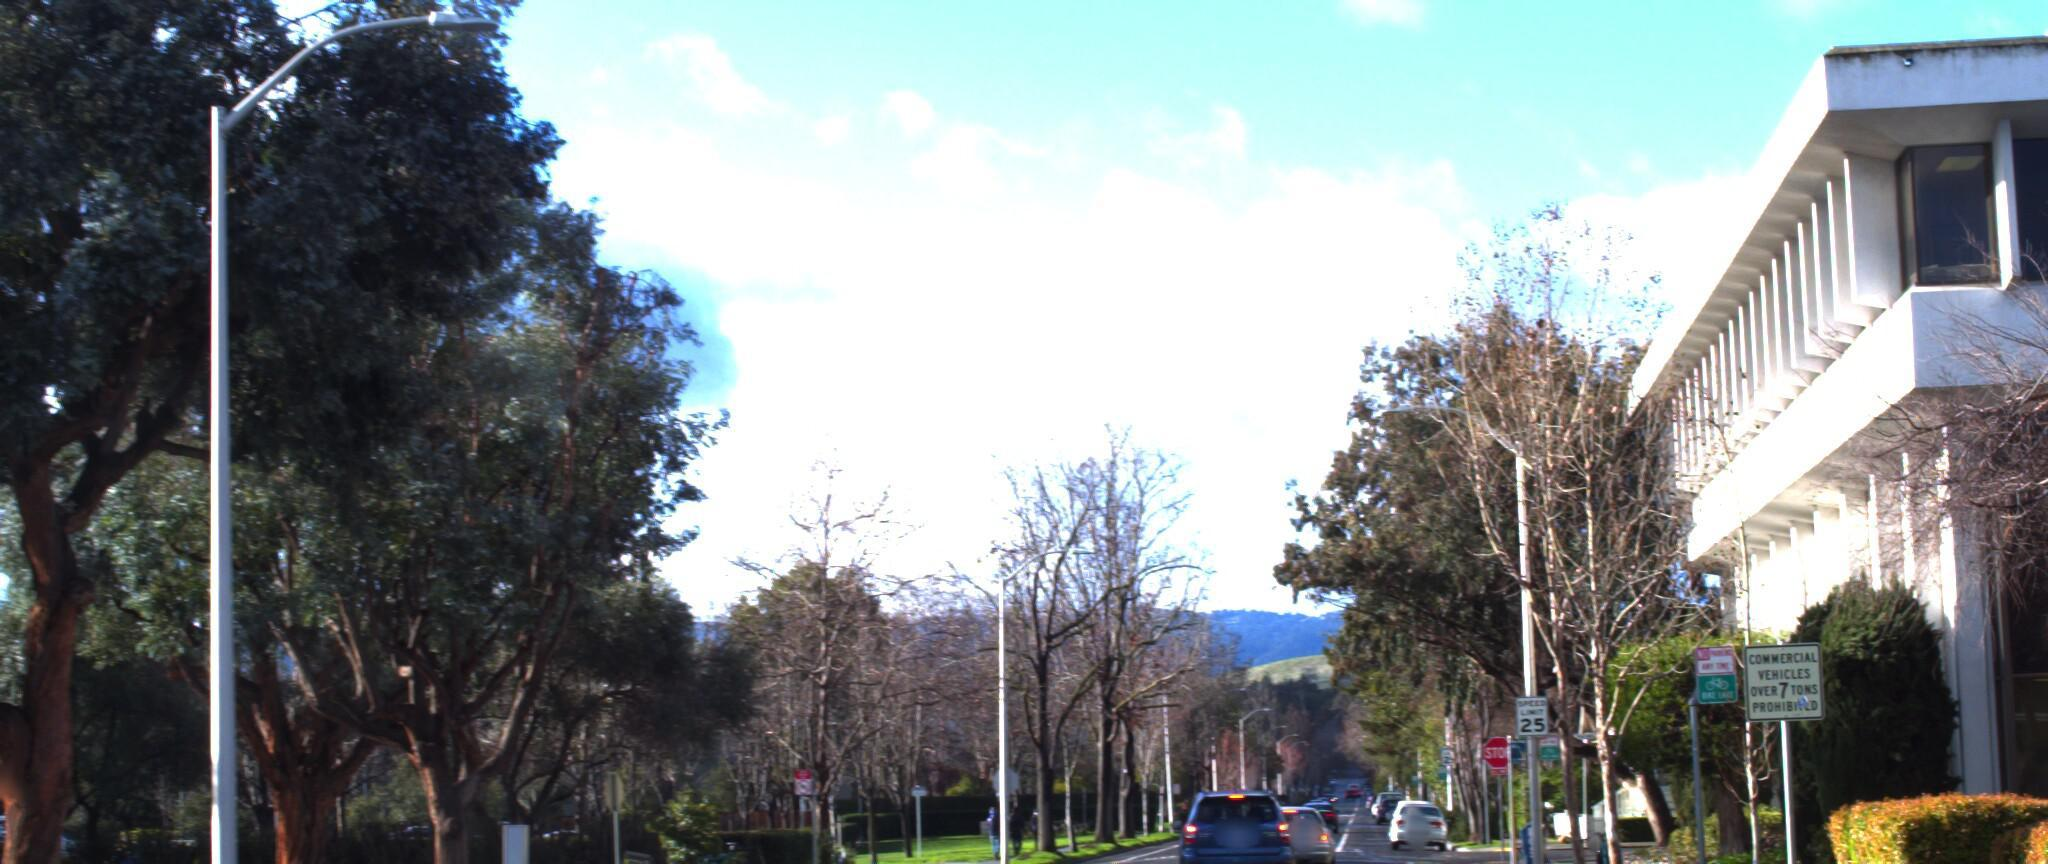car: (0, 474, 129, 864), (1172, 783, 1296, 864), (1237, 780, 1334, 864)
